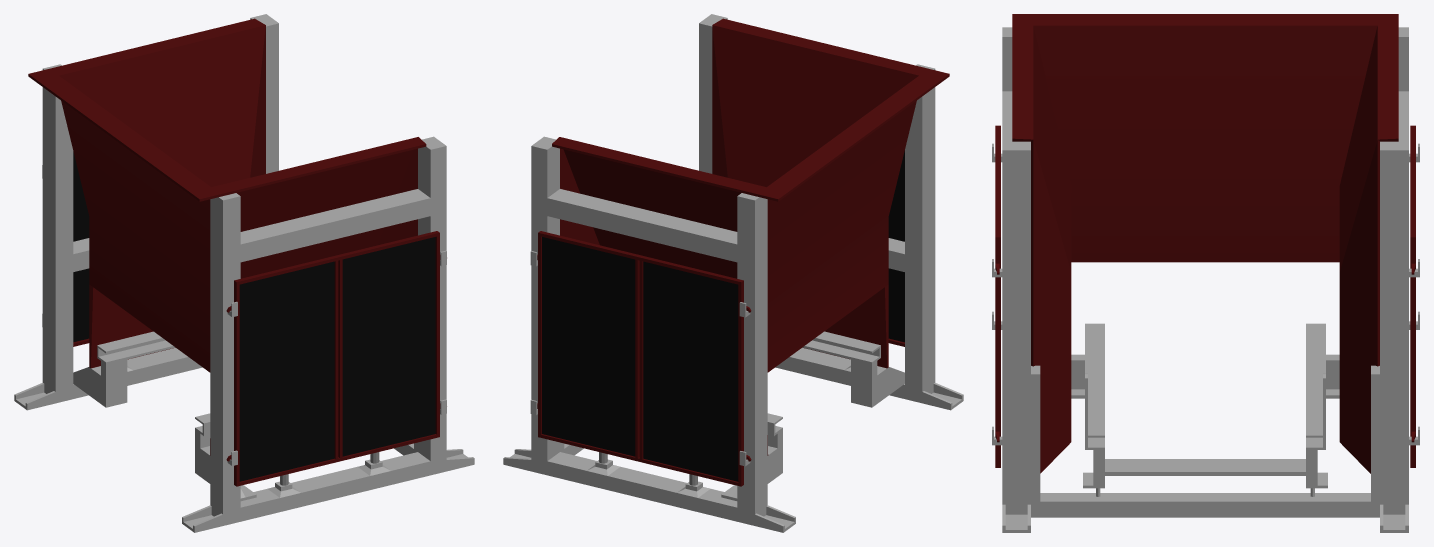
File: SM_ProdLine_storage_mid.FBX
3 renders of one model, left to right at view 1: azimuth 30°, elevation 25°; view 2: azimuth 150°, elevation 25°; view 3: azimuth 270°, elevation 25°, orthographic. The views are drawn at different scales.
Visible parts, largest first — view 1: SM_ProdLine_storage_mid_LOD0; view 2: SM_ProdLine_storage_mid_LOD0; view 3: SM_ProdLine_storage_mid_LOD0.
Boxes of the visible parts, <box> form: SM_ProdLine_storage_mid_LOD0: <box>14,14,474,532</box>; SM_ProdLine_storage_mid_LOD0: <box>503,14,963,532</box>; SM_ProdLine_storage_mid_LOD0: <box>992,14,1419,532</box>.
Bounding box in the file's own units: 173 × 203 × 193.
